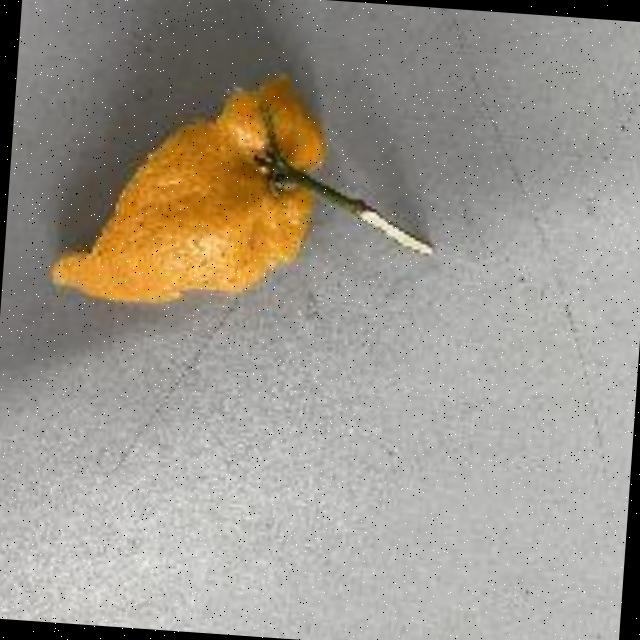orange-peel: (46, 57, 332, 319)
